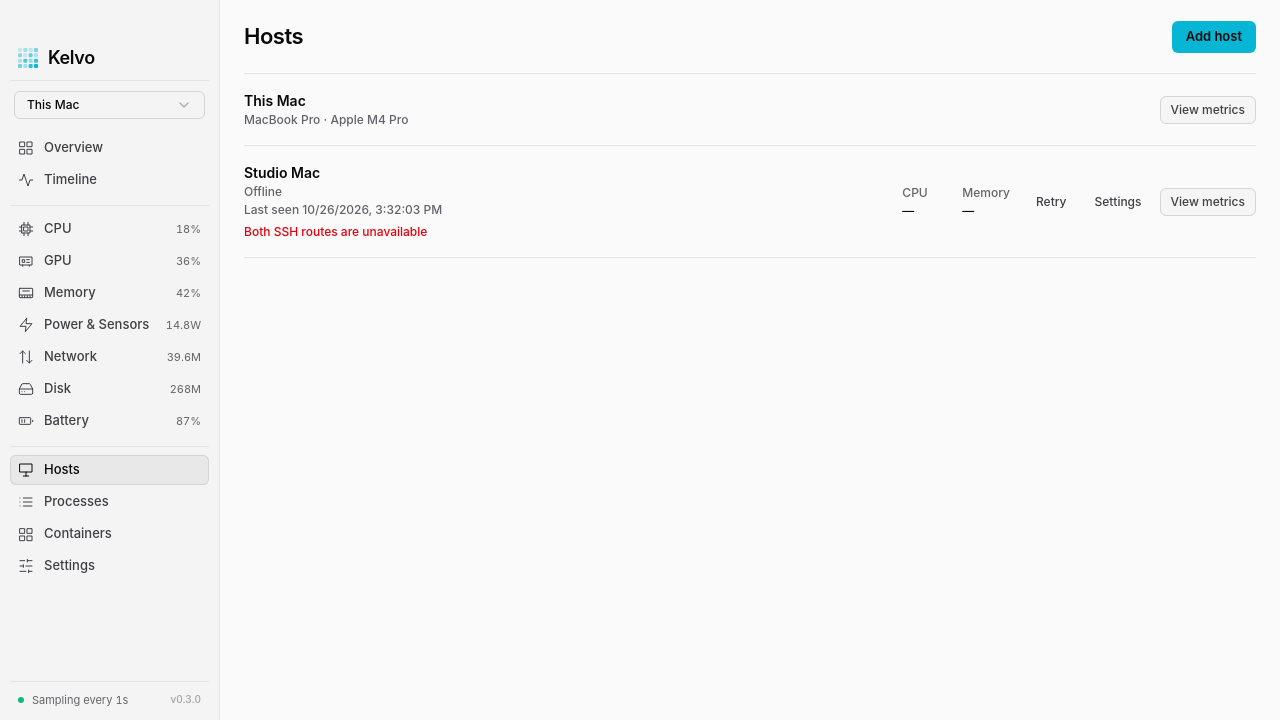
Scenario: remote Mac recovery workflows › shows failed reconnect feedback and restores live summaries after a successful retry
The width and height of the screenshot is (1280, 720).
Expected: the text "Offline" is shown, [244,184,282,199]
Expected: the text "Last seen 10/26/2026, 3:32:03 PM" is shown, [244,202,442,217]
Click the button "Retry". click: x=1051, y=202
box: [1026,188,1076,216]
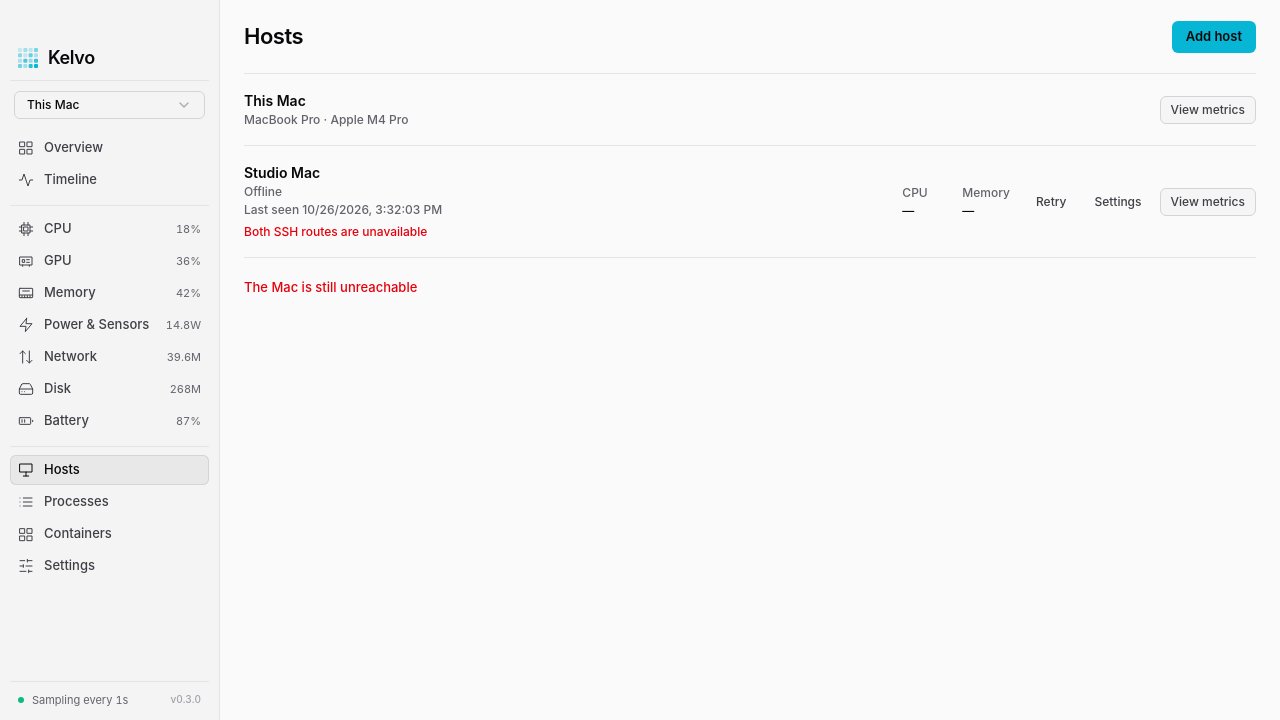
Expected: the text "Offline" is shown, [244,184,282,199]
Result: the message reads "The Mac is still unreachable" at [244,279,417,295]
Click the button "Retry". click: x=1051, y=202
box: [1026,188,1076,216]
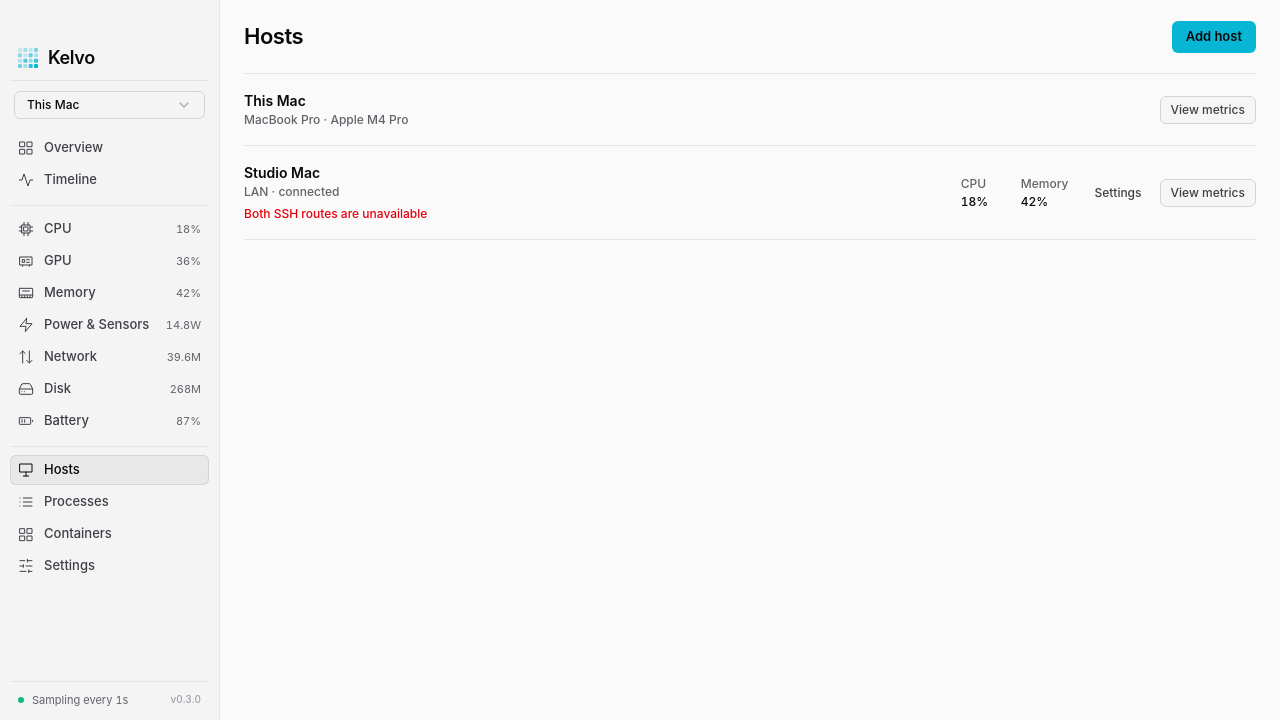
Result: the text "LAN · connected" is shown at [244,184,339,199]
Result: the text "18%" in the row of "Both SSH routes are unavailable" is shown at [961,194,988,208]
Result: the text "42%" in the row of "Both SSH routes are unavailable" is shown at [1021,194,1048,208]
